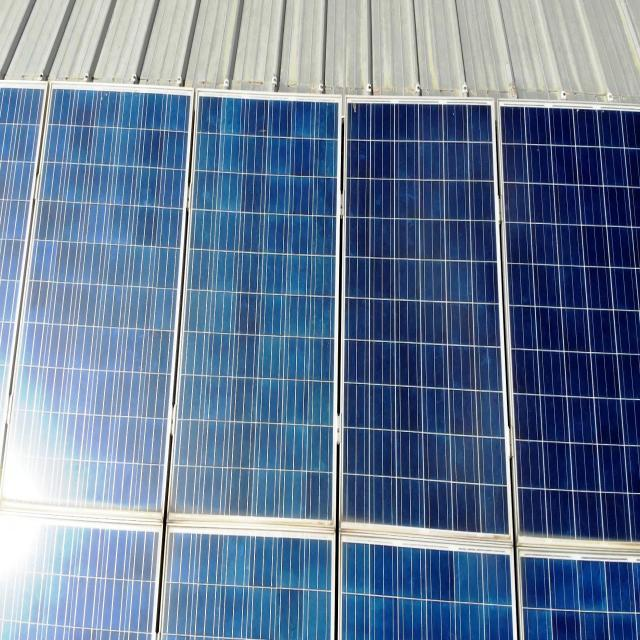no faulty: (4, 84, 198, 516), (165, 92, 348, 534), (344, 99, 518, 544), (497, 104, 640, 550)
